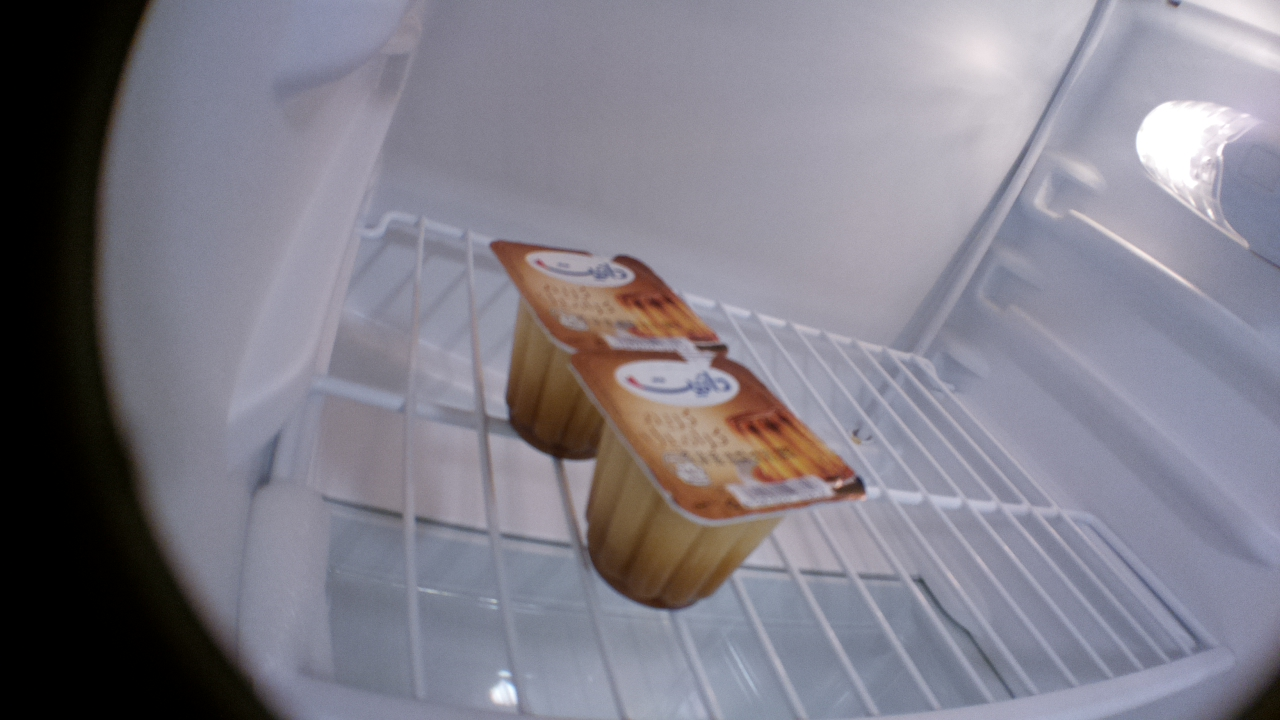caramel: (562, 350, 867, 612), (487, 237, 730, 461)
